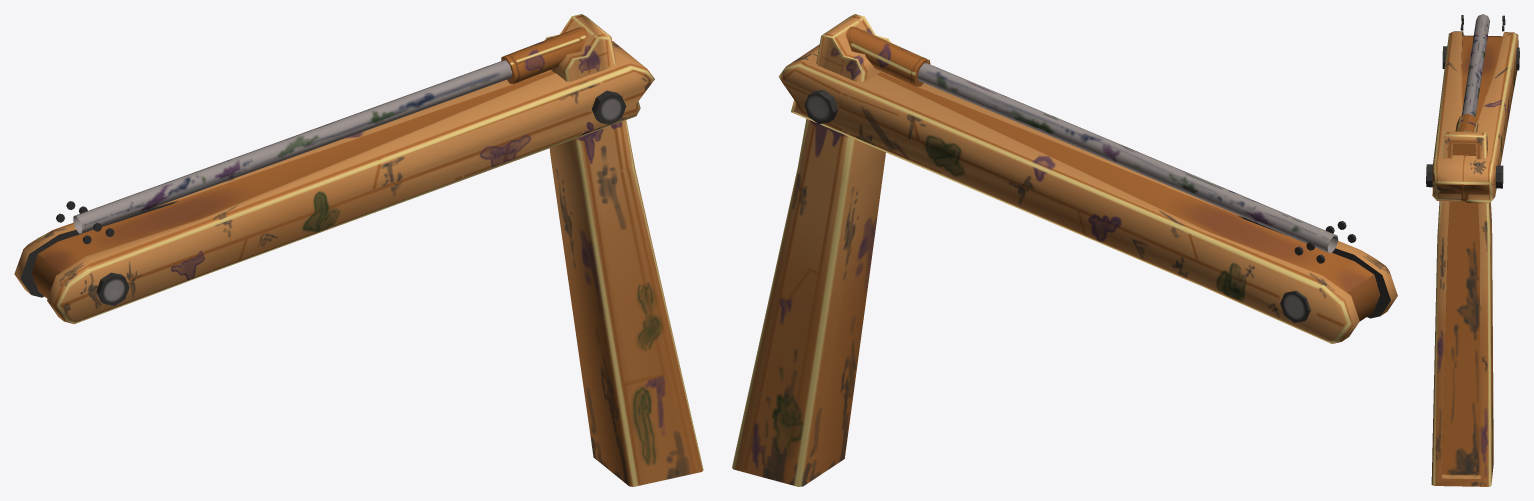
File: üst.fbx
3 renders of one model, left to right at view 1: azimuth 30°, elevation 25°; view 2: azimuth 150°, elevation 25°; view 3: azimuth 270°, elevation 25°, orthographic. The views are drawn at different scales.
Visible parts, largest first — view 1: Cube.025; view 2: Cube.025; view 3: Cube.025.
Boxes of the visible parts, bbox=[...] form: Cube.025: bbox=[14, 14, 703, 486]; Cube.025: bbox=[732, 14, 1397, 486]; Cube.025: bbox=[1426, 14, 1519, 486].
Bounding box in the file's own units: 824 × 556 × 147.
1 material, 1 textured.
